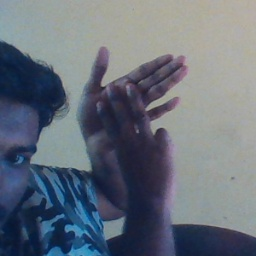M: (74, 46, 198, 189)
